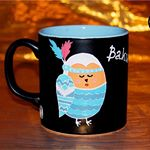cups: (2, 24, 135, 138)
